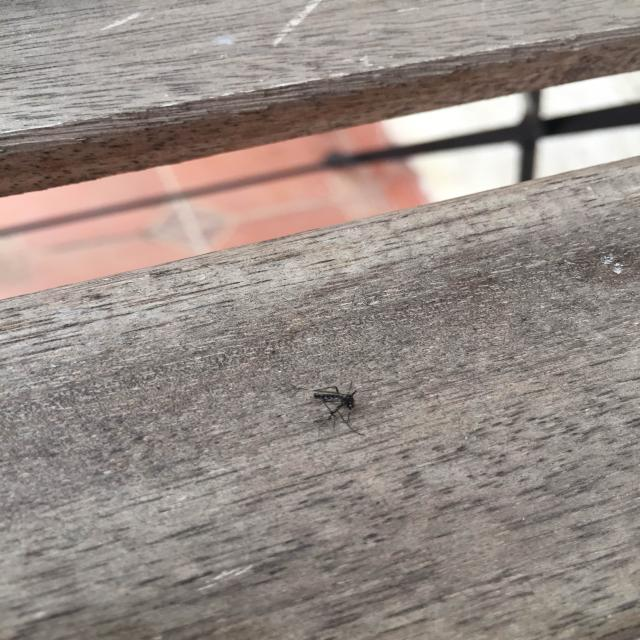albopictus: (302, 380, 370, 440)
